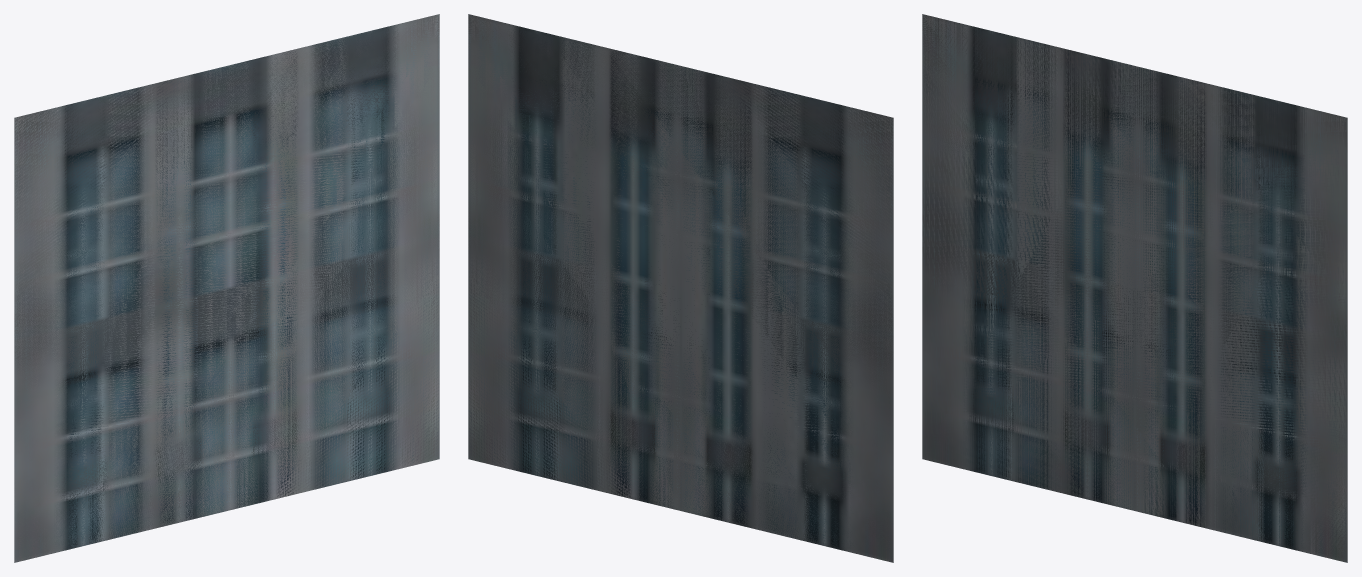
The model's file is suit_walls.glb.
The picture shows the model from 3 angles, left to right: view 1: azimuth 30°, elevation 25°; view 2: azimuth 150°, elevation 25°; view 3: azimuth 330°, elevation 25°; orthographic projection.
Visible parts, largest first — view 1: wall_suit_build1_ur, wall_suit_build4_ur, wall_suit_build4_ul; view 2: wall_suit_build4_ur, wall_suit_build1_ur, wall_suit_build4_ul; view 3: wall_suit_build4_ur, wall_suit_build1_ur, wall_suit_build4_ul.
Boxes of the visible parts, <box> form: wall_suit_build1_ur: <box>14,14,439,562</box>; wall_suit_build4_ur: <box>14,15,439,561</box>; wall_suit_build4_ul: <box>14,14,439,560</box>; wall_suit_build4_ur: <box>468,14,893,562</box>; wall_suit_build1_ur: <box>468,14,893,562</box>; wall_suit_build4_ul: <box>468,17,893,561</box>; wall_suit_build4_ur: <box>922,15,1347,562</box>; wall_suit_build1_ur: <box>922,14,1347,562</box>; wall_suit_build4_ul: <box>922,15,1347,560</box>.
Bounding box in the file's own units: 1 × 1 × 0.
3 materials, 3 textured.
